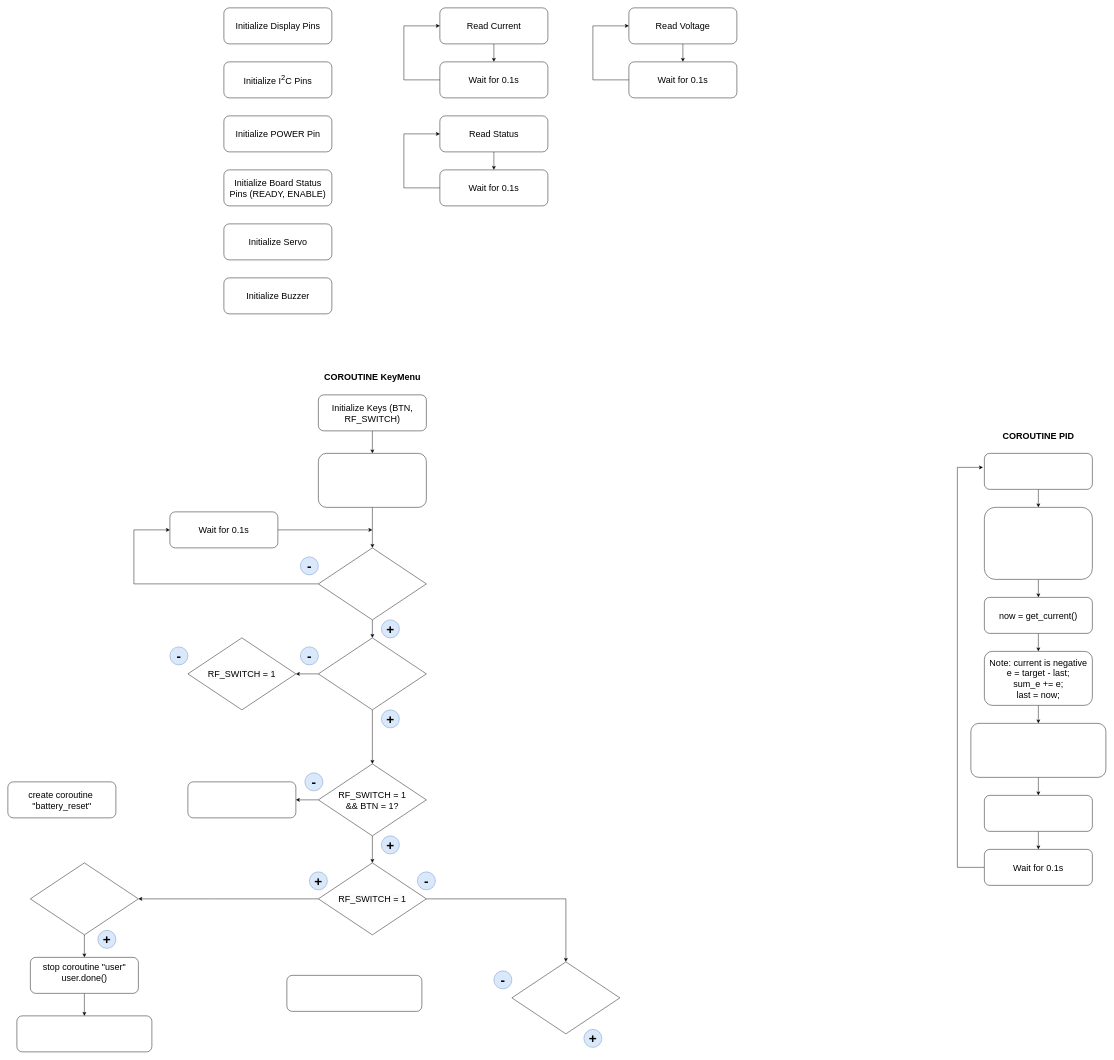
The diagram is 1114 pixels wide and 1060 high, and some of its shapes have lost their labels. Here are the shapes that lost their labels. From the top down, the box of each, then its label:
(318, 453, 426, 507): initialize variables both = 0; assistant = None; user = None;
(984, 453, 1092, 489): Initialize P, I, D constants
(984, 507, 1092, 579): Initialize variables e = 0; sum_e = 0; now = 0; last = 0; angle = 100;
(318, 547, 426, 620): EVENT?
(318, 637, 426, 710): PRESSED?
(970, 723, 1106, 777): angle = p*now + i*sum_e + d*e;
(187, 781, 296, 818): both = 1;
(984, 795, 1092, 831): update servo angle servo.angle = angle;
(30, 862, 138, 935): user != None?
(286, 975, 422, 1011): create coroutine user = brake_gradiently()
(511, 961, 620, 1034): assistant != None?
(16, 1015, 152, 1052): create coroutine assistant = brake_until_still()
